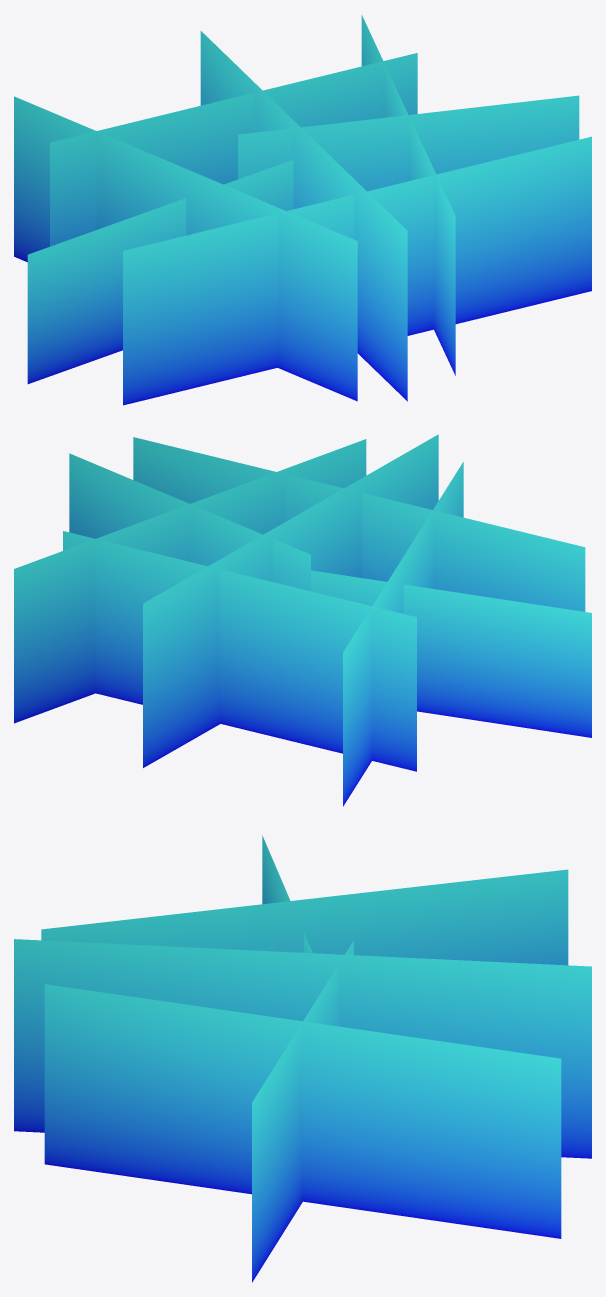
File: SM_Env_Grass_Med_Clump_02.FBX
The picture shows the model from 3 angles, top to bottom: view 1: azimuth 30°, elevation 25°; view 2: azimuth 150°, elevation 25°; view 3: azimuth 270°, elevation 25°; orthographic projection. The views are drawn at different scales.
Parts seen in each view (by area): view 1: SM_Env_Grass_Med_Clump_02; view 2: SM_Env_Grass_Med_Clump_02; view 3: SM_Env_Grass_Med_Clump_02.
Part boxes in pixels (box(x1,y1,x2,y2)): SM_Env_Grass_Med_Clump_02: box(14, 15, 591, 405); SM_Env_Grass_Med_Clump_02: box(14, 434, 591, 806); SM_Env_Grass_Med_Clump_02: box(14, 835, 591, 1282).
Size of the model in its own units: 179 by 145 by 53.29.
